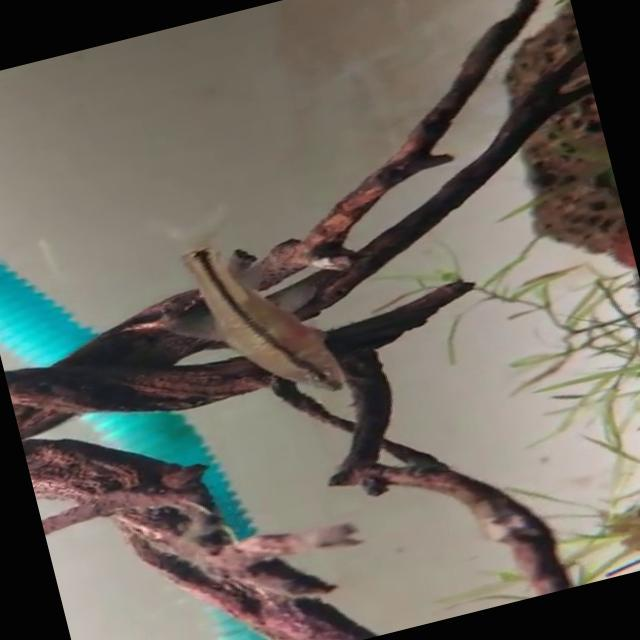Cakil Baligi: (123, 190, 353, 434)
